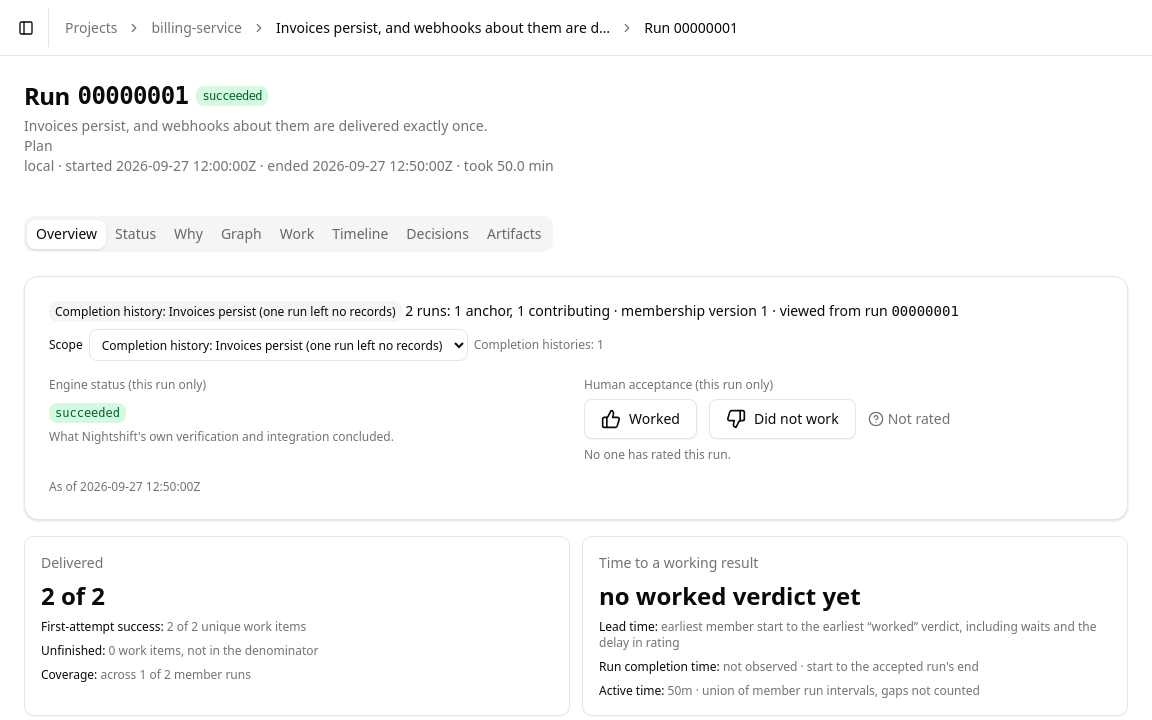
a completion history's delivery, rework, review and time evidence › names the member with no records in a partial history and counts only members with evidence
Click the button that starts with "Delivered": (297, 626) [24,536,570,716]
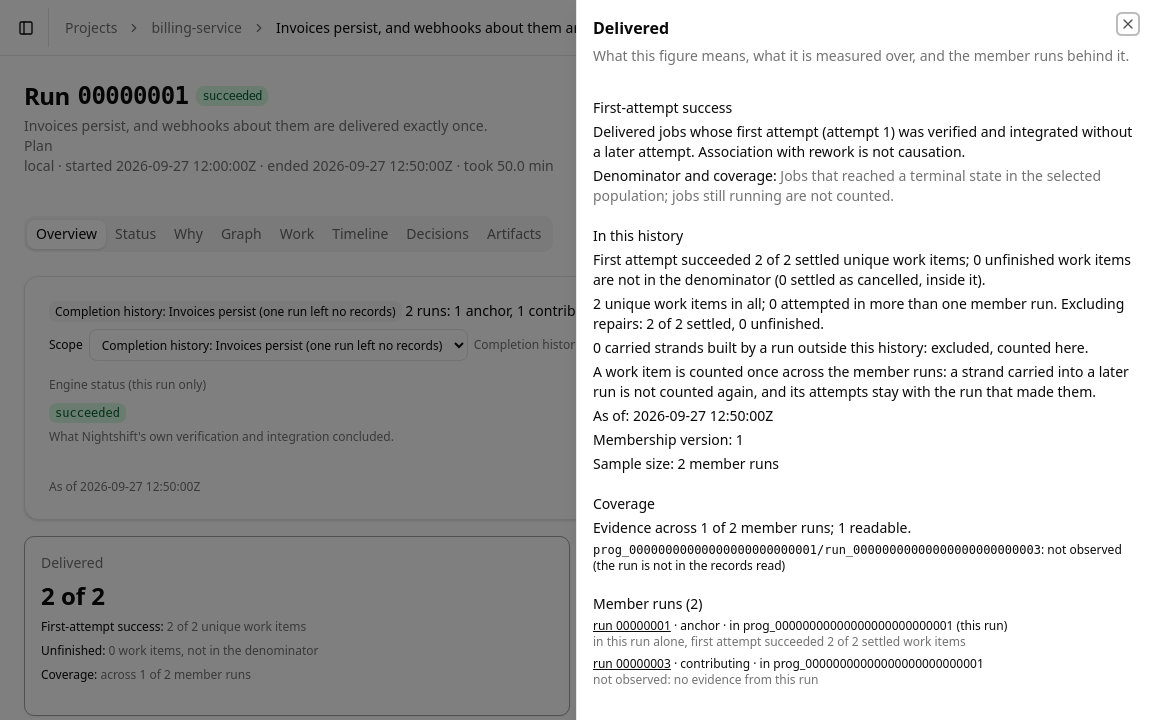
Expected: the element "Coverage" shows "Evidence across 1 of 2 member runs", [593,494,1136,574]
Expected: the element "Coverage" shows "not observed (the run is not in the records read)", [593,494,1136,574]
